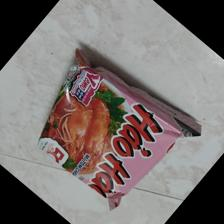Haohao: (35, 49, 201, 209)
